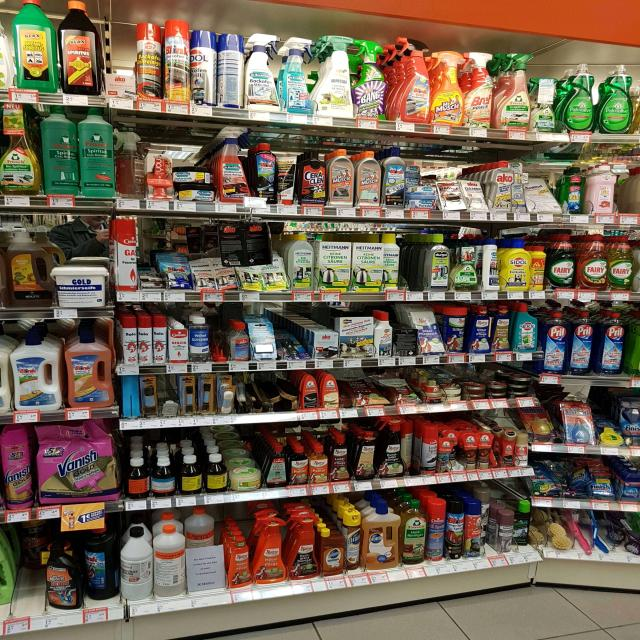unorganised: (273, 327, 312, 362), (565, 166, 586, 213), (478, 490, 492, 547), (399, 417, 414, 467)
